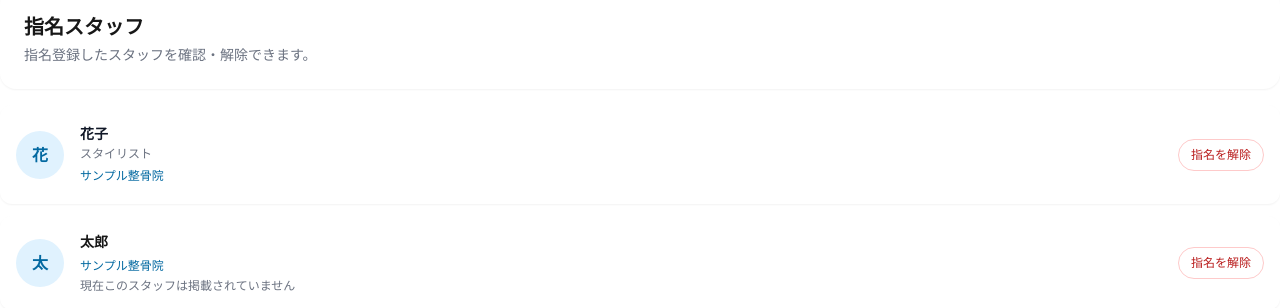
Test: 「指名を解除」は API を通して外し、一覧から消す
The width and height of the screenshot is (1280, 308).
Click the button with aria-label "指名を解除（花子さん）" at coordinates (1221, 154), box [1178, 138, 1264, 170]
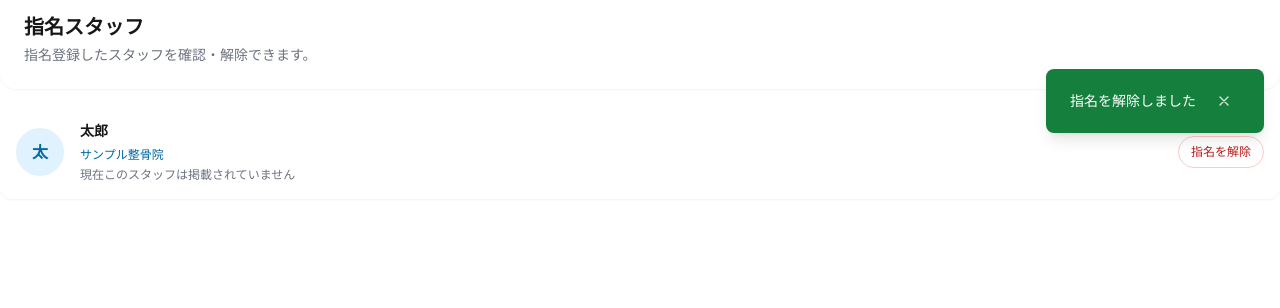
Expected: the text "太郎" is shown, [80, 122, 108, 139]
Expected: the link "花子" is gone
Expected: the text "指名を解除しました" is shown, [1070, 91, 1196, 111]
